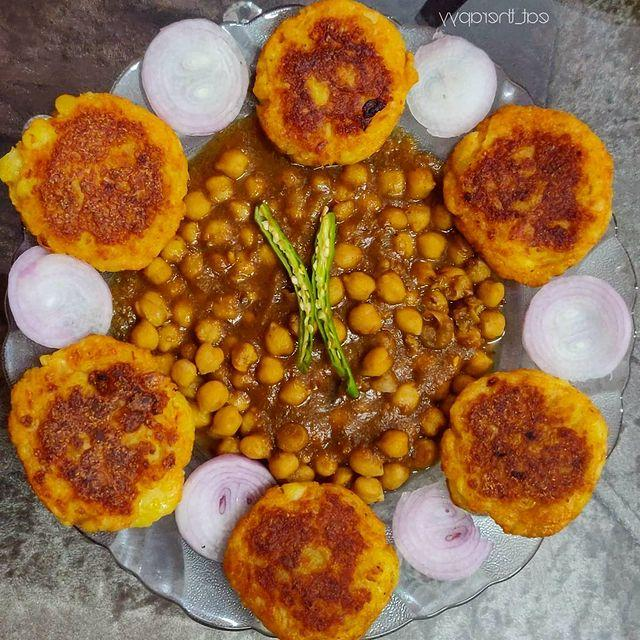Chole: (190, 167, 450, 461)
